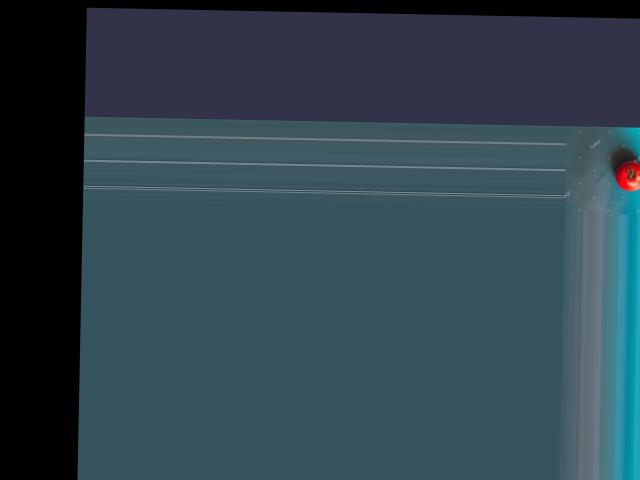tomato: (615, 159, 640, 191)
